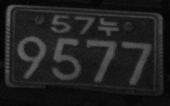5: (50, 36, 82, 81), (50, 13, 71, 34)
7: (121, 39, 153, 85), (86, 38, 116, 82), (74, 15, 94, 34)
9: (16, 35, 47, 80)
누: (97, 16, 119, 36)
